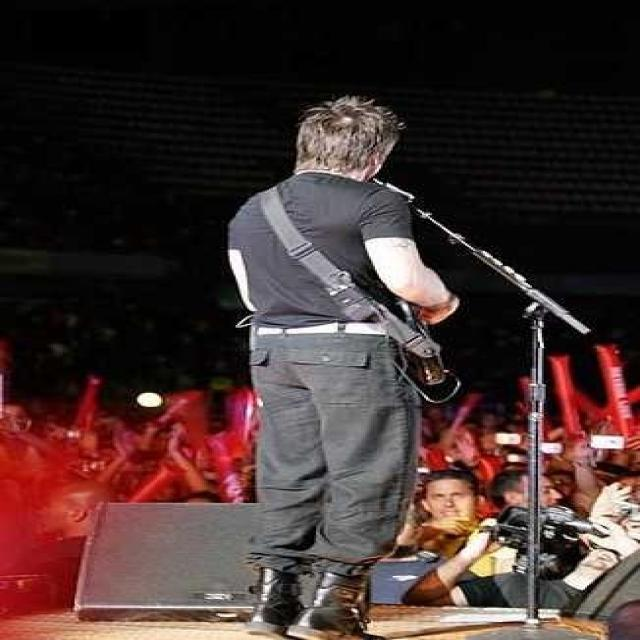microphone: (362, 169, 450, 233)
